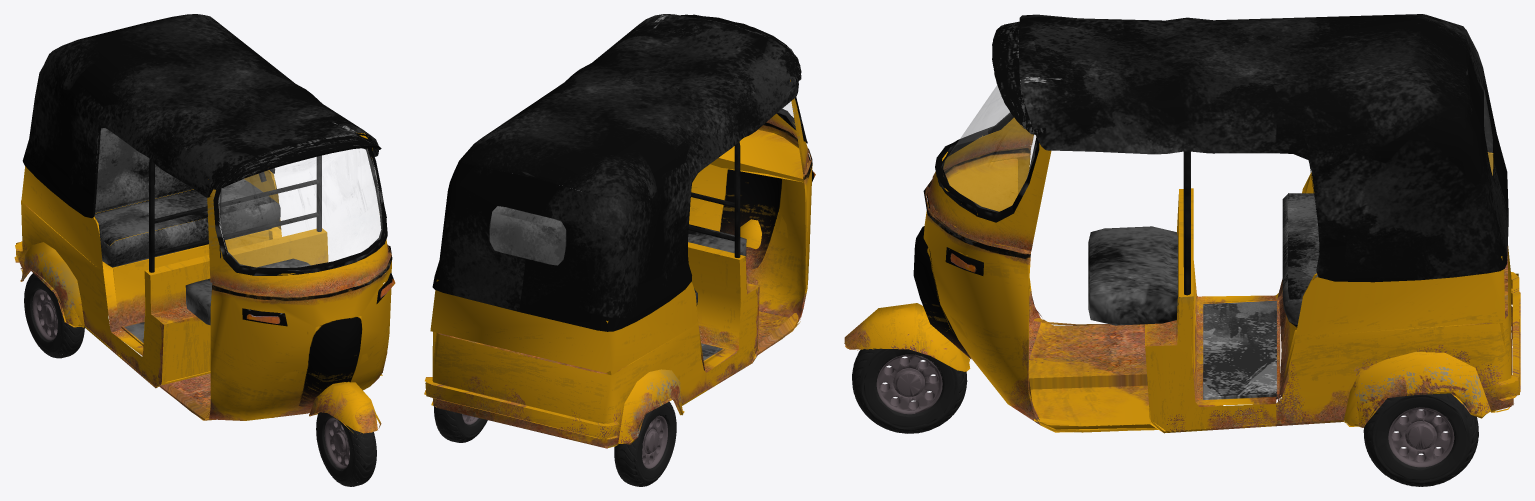
File: tuk_tuk.glb
The picture shows the model from 3 angles, left to right: view 1: azimuth 30°, elevation 25°; view 2: azimuth 150°, elevation 25°; view 3: azimuth 270°, elevation 25°; orthographic projection. The views are drawn at different scales.
Parts seen in each view (by area): view 1: Plane.001_Body_01_0, Plane.002_Top_0, Plane.003_Glass_0, Rin_Llanta_0, Rin.001_Llanta_0, Rin.001_Metal Rin_0, Rin_Metal Rin_0; view 2: Plane.002_Top_0, Plane.001_Body_01_0, Rin.001_Llanta_0, Plane.003_Glass_0, Rin.001_Metal Rin_0; view 3: Plane.002_Top_0, Plane.001_Body_01_0, Plane.003_Glass_0, Rin.001_Llanta_0, Rin_Llanta_0, Rin.001_Metal Rin_0, Rin_Metal Rin_0.
Part boxes in pixels (bbox=[...]): Plane.001_Body_01_0: bbox=[14, 132, 395, 434]; Plane.002_Top_0: bbox=[22, 14, 378, 325]; Plane.003_Glass_0: bbox=[218, 148, 382, 270]; Rin_Llanta_0: bbox=[316, 412, 376, 486]; Rin.001_Llanta_0: bbox=[24, 273, 84, 358]; Rin.001_Metal Rin_0: bbox=[32, 289, 68, 340]; Rin_Metal Rin_0: bbox=[324, 417, 360, 469]; Plane.002_Top_0: bbox=[432, 14, 798, 331]; Plane.001_Body_01_0: bbox=[424, 14, 815, 448]; Rin.001_Llanta_0: bbox=[434, 401, 676, 486]; Plane.003_Glass_0: bbox=[490, 102, 795, 264]; Rin.001_Metal Rin_0: bbox=[448, 414, 667, 468]; Plane.002_Top_0: bbox=[1018, 14, 1508, 327]; Plane.001_Body_01_0: bbox=[844, 21, 1520, 433]; Plane.003_Glass_0: bbox=[943, 85, 1492, 212]; Rin.001_Llanta_0: bbox=[1363, 393, 1478, 486]; Rin_Llanta_0: bbox=[852, 348, 967, 433]; Rin.001_Metal Rin_0: bbox=[1388, 407, 1454, 467]; Rin_Metal Rin_0: bbox=[876, 354, 942, 414].
Size of the model in its own units: 1.41 by 2.05 by 3.25.
Materials: 5 (3 with a texture image).
